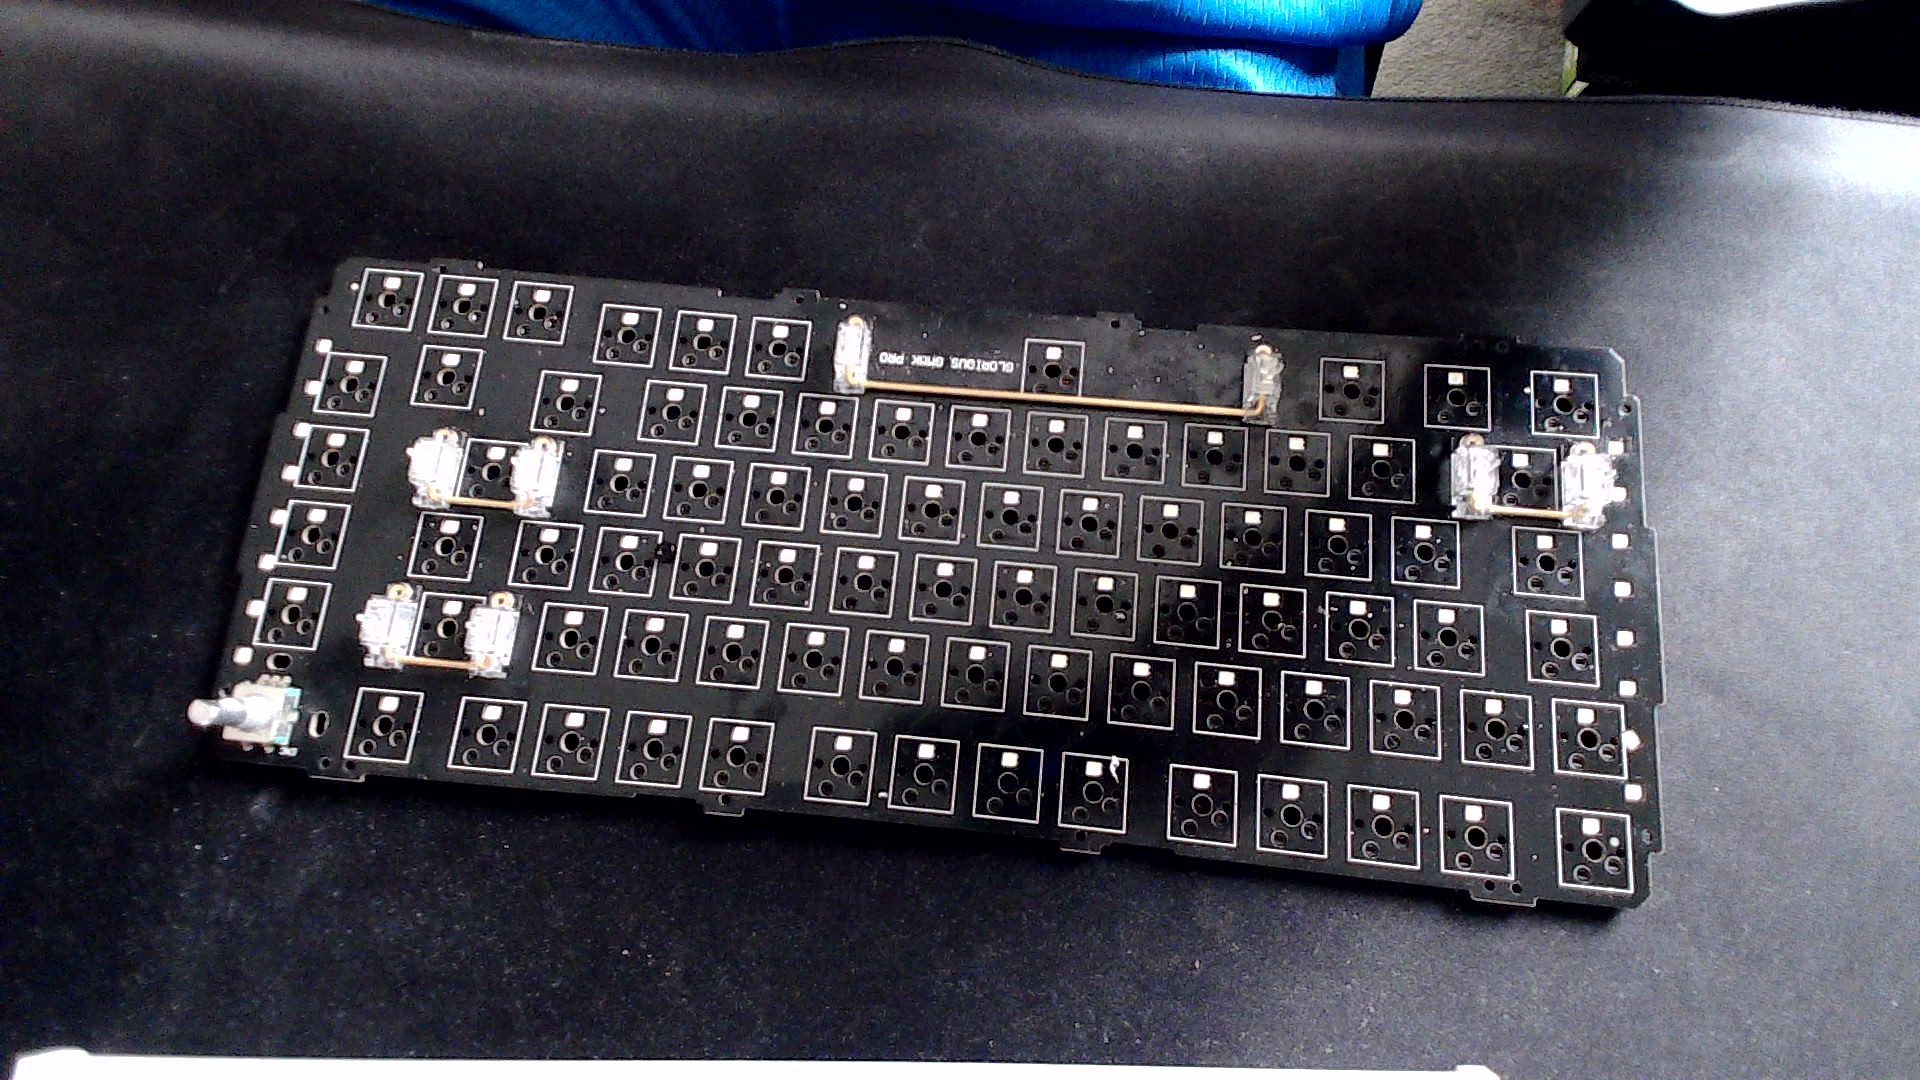pcb: (185, 229, 1685, 953)
